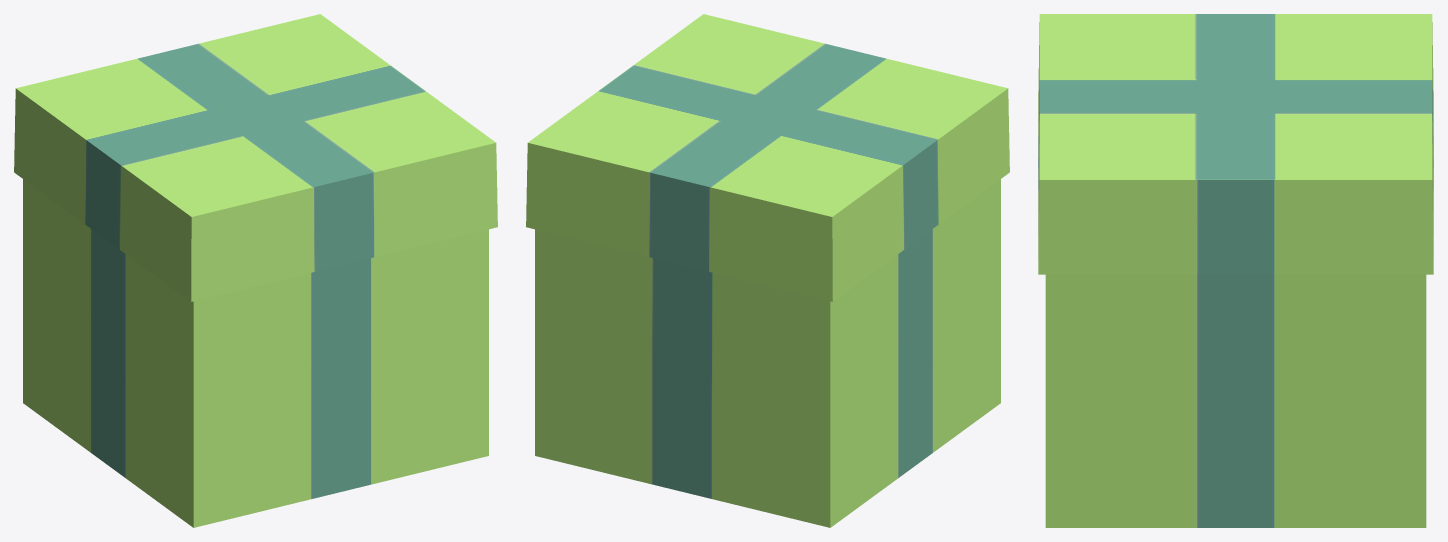
3 renders of one model, left to right at view 1: azimuth 30°, elevation 25°; view 2: azimuth 150°, elevation 25°; view 3: azimuth 270°, elevation 25°, orthographic. The views are drawn at different scales.
Visible parts, largest first — view 1: Cube.013; view 2: Cube.013; view 3: Cube.013.
Part boxes in pixels (box(x1,y1,x2,y2)): Cube.013: box(14, 14, 497, 527); Cube.013: box(526, 14, 1009, 527); Cube.013: box(1038, 14, 1433, 527).
Size of the model in its own units: 9621 by 9409 by 9621.
Materials: 5 (3 with a texture image).
